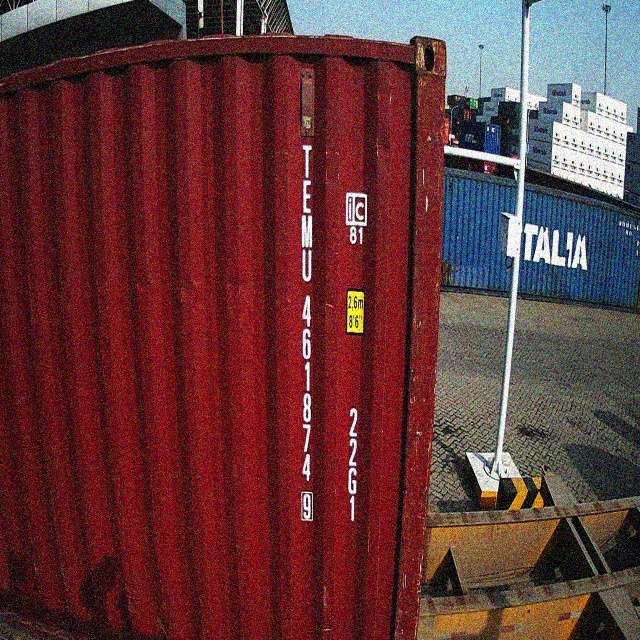Dent: (103, 267, 264, 318), (370, 130, 398, 177)
